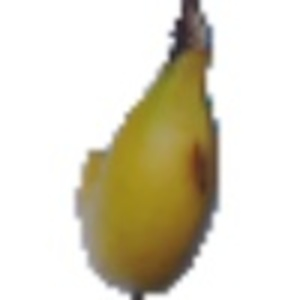banana: (69, 6, 226, 294)
